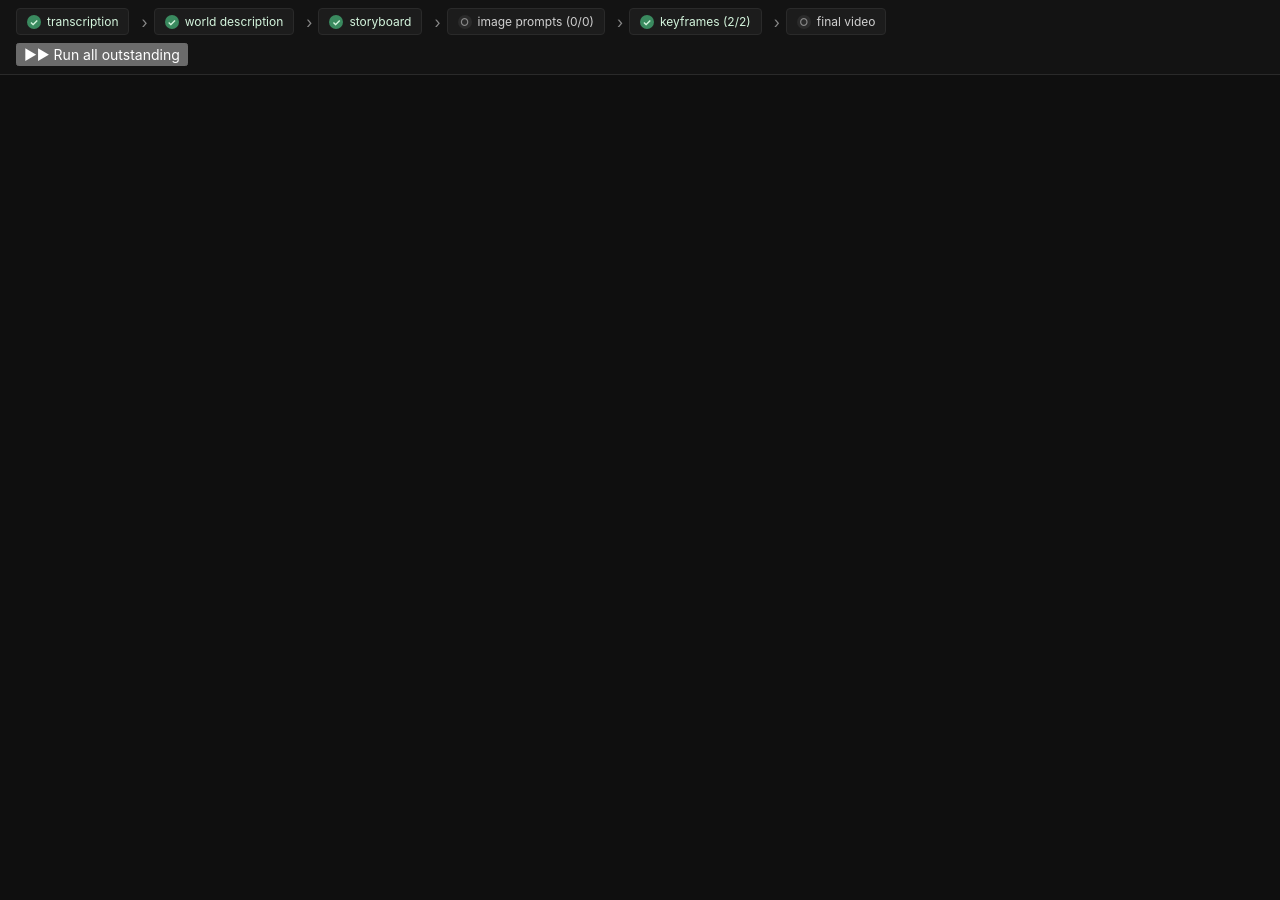
Test: PipelinePanel › clicking a done keyframes segment surfaces the take-history copy
The image size is (1280, 900).
What coordinates should you click on to do the following:
click the button "✓ keyframes (2/2)"
I would click on:
 (695, 22)
Its box is [629,8,762,35].
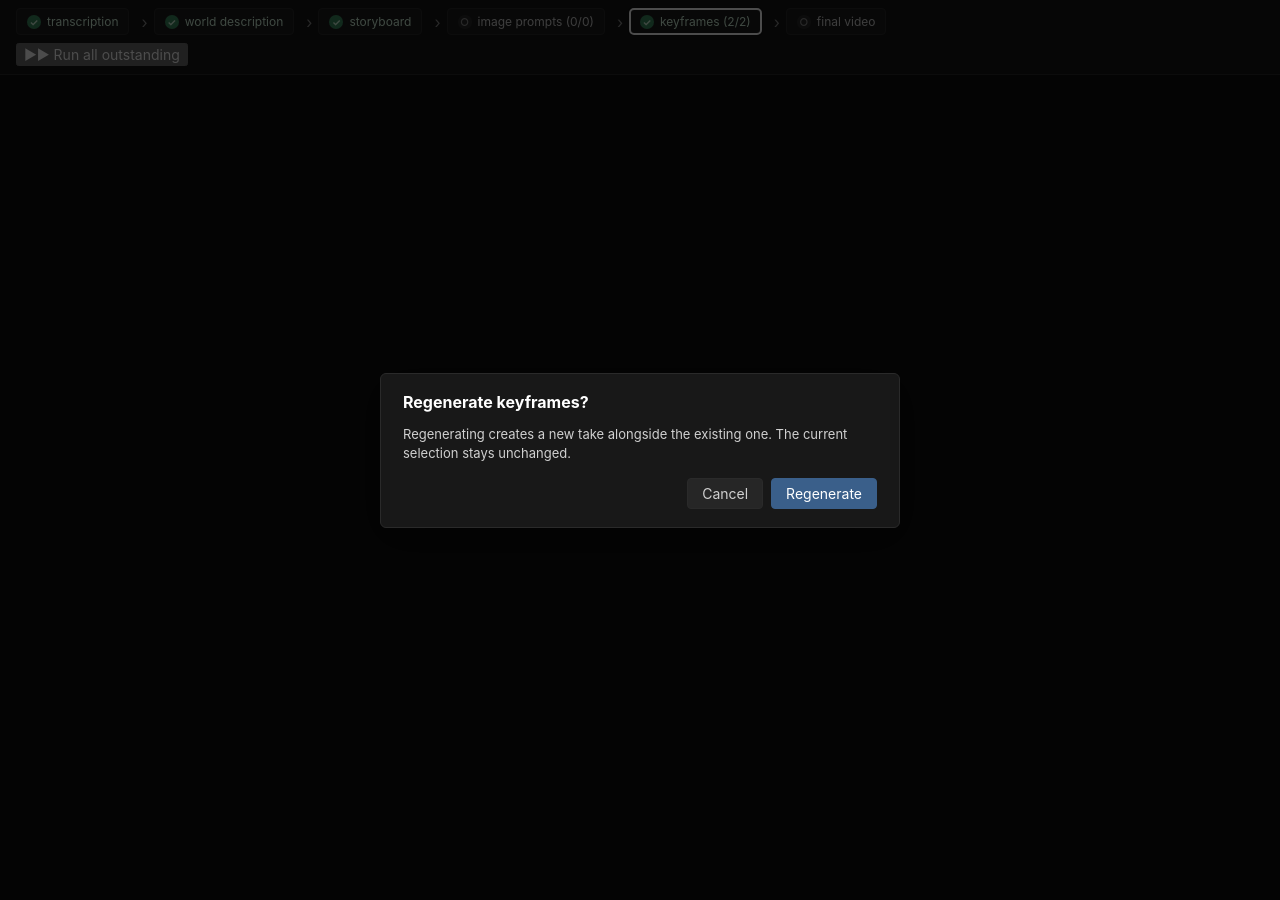
Now the heading "Regenerate keyframes?" is shown, box [403,392,589,412]
Now the text "creates a new take" is shown, box [403,426,847,461]
